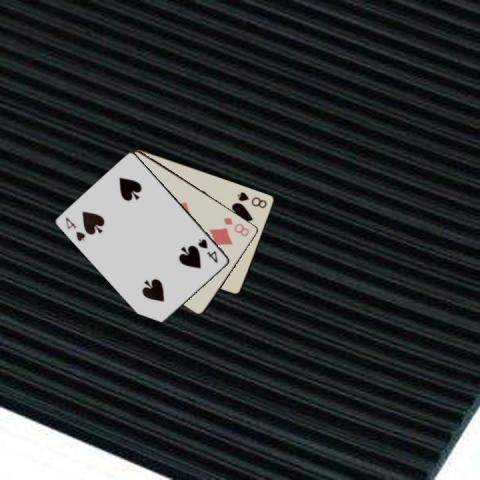4s: (196, 236, 220, 265), (63, 214, 87, 243)
8d: (220, 215, 250, 238)
8s: (234, 189, 269, 209)
